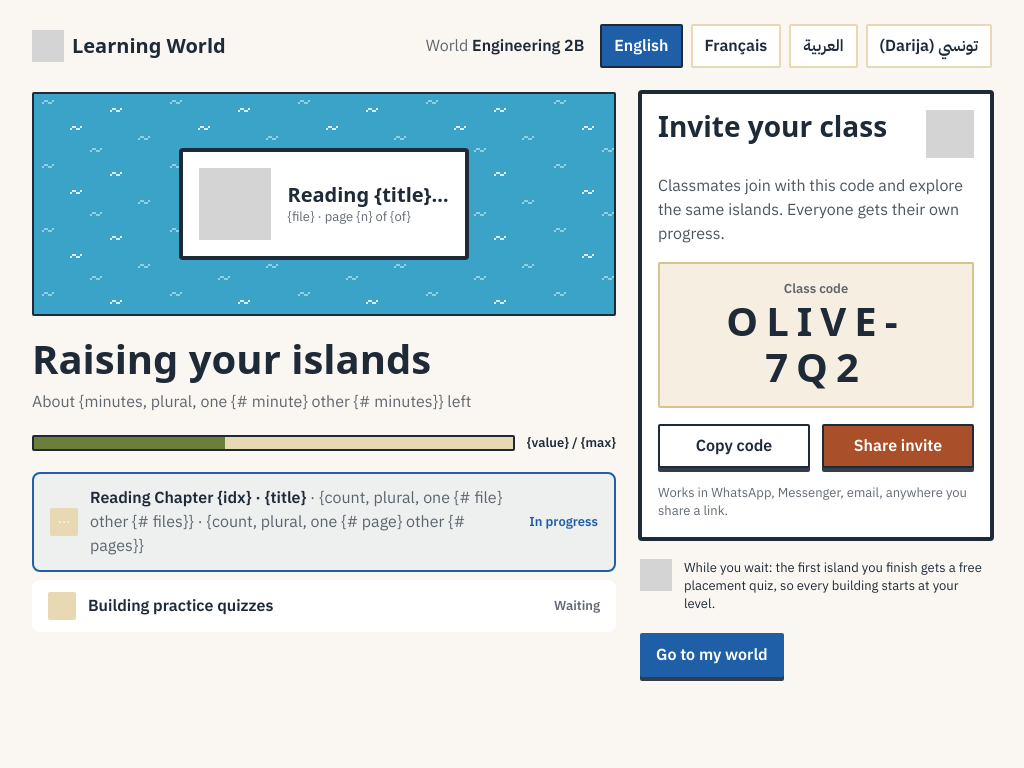
it: Indexing screen › copies the code
Click the button "Copy code" at [734, 446], box [658,424,810,468]
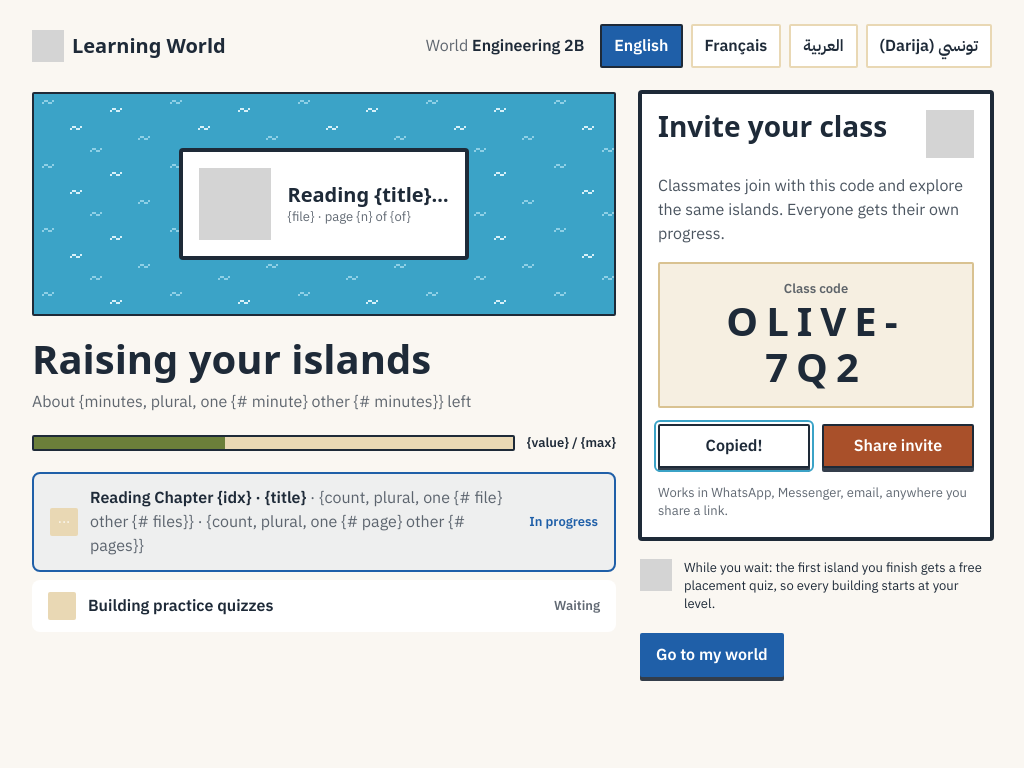
Expected: the button "Copied!" is shown, [658,424,810,468]
